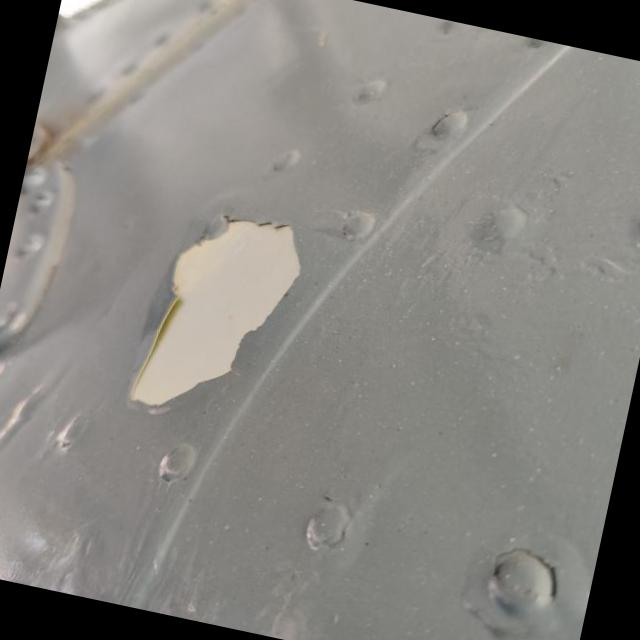Paint-off: (128, 221, 298, 405)
